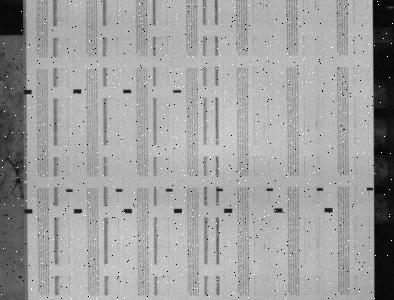backgroundclutter: (19, 275, 22, 278)
incorrect qblock: (173, 89, 181, 93)
qblock: (24, 209, 33, 214), (123, 208, 132, 213), (73, 89, 82, 94), (174, 208, 182, 213), (224, 208, 232, 213), (24, 89, 32, 94), (274, 208, 283, 212), (324, 208, 333, 212), (74, 209, 82, 213), (123, 89, 131, 93)
smallqblock: (216, 188, 223, 192), (166, 188, 173, 192), (316, 187, 323, 191), (66, 189, 73, 192), (366, 187, 373, 190), (266, 188, 273, 191), (116, 189, 122, 192)
